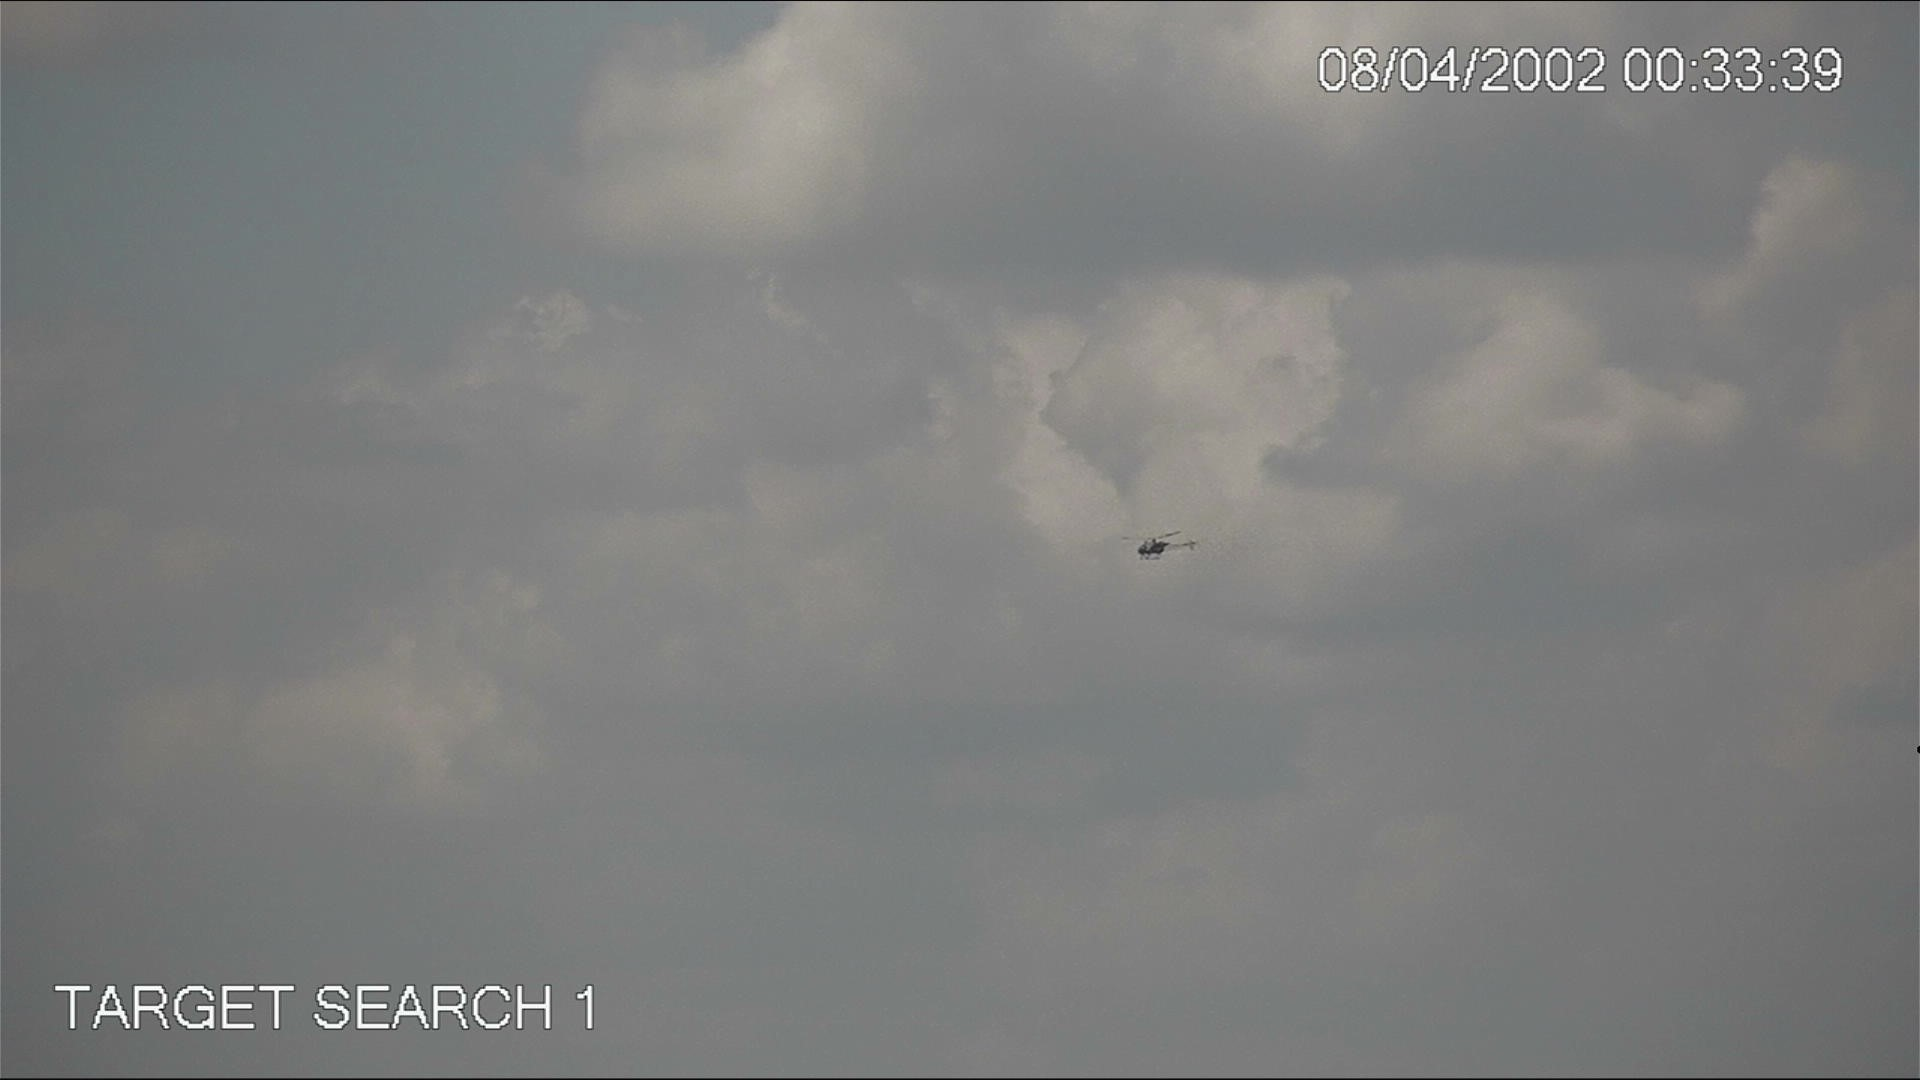SU_30: (1127, 527, 1207, 563)
